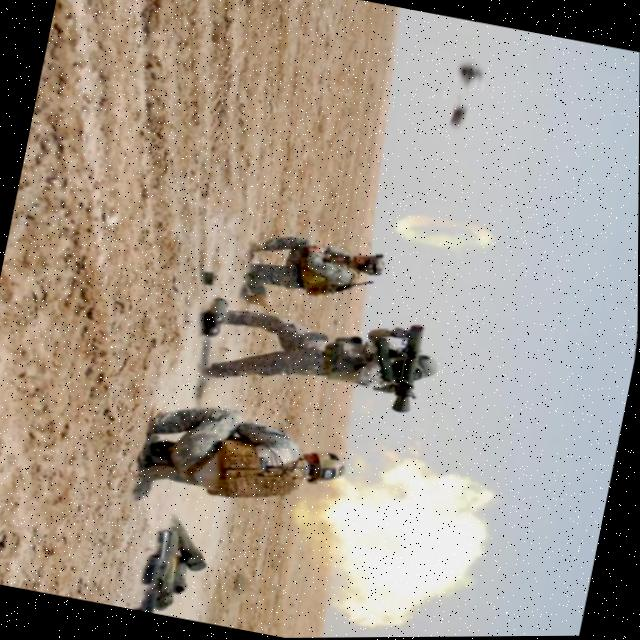rocket: (377, 314, 438, 420)
